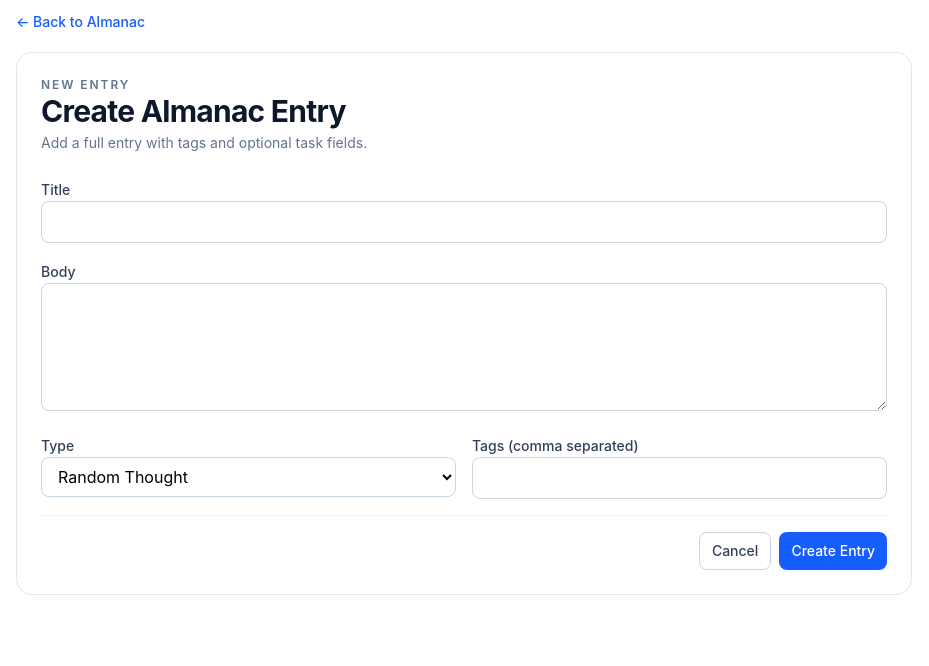
Test case: almanac coverage-critical files › almanac editor reports submission failures
The image size is (929, 666).
Type "Bad" into the field labelled "Title" at (464,222), box [41, 201, 887, 243]
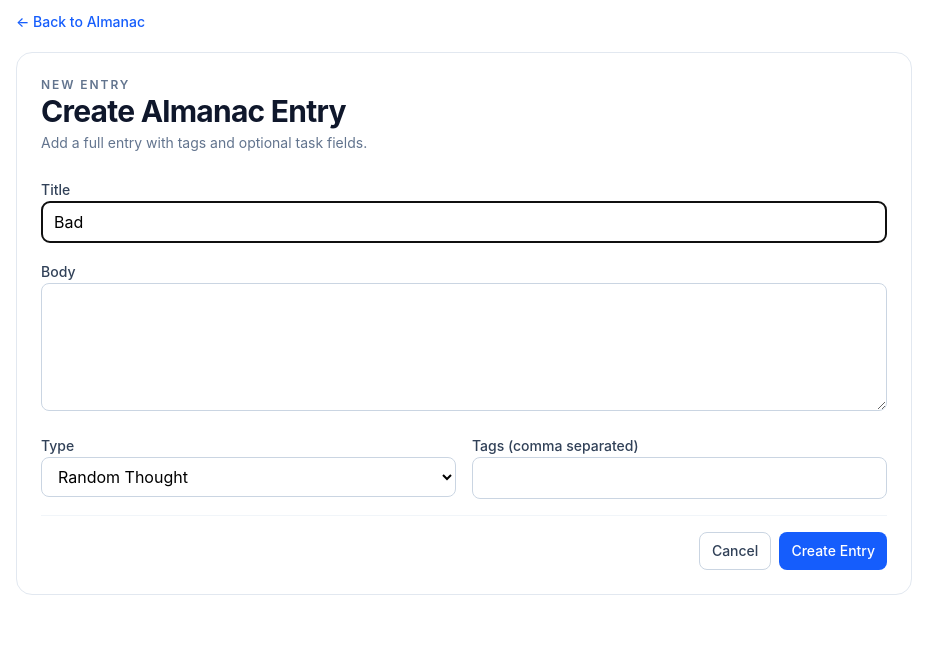
Click the button "Create Entry" at (833,551), box [779, 532, 887, 570]
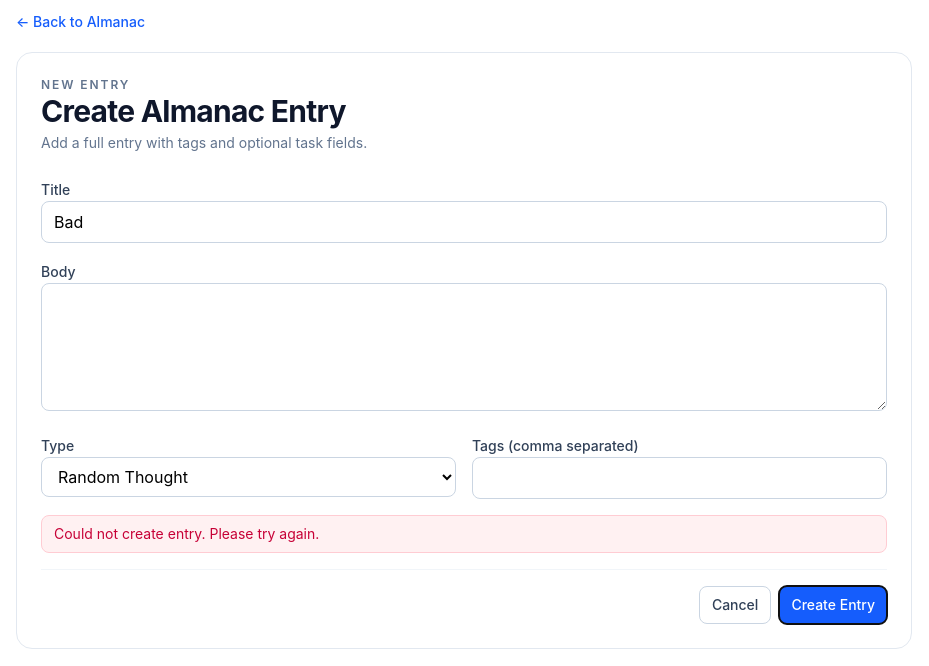
Now the text "Could not create entry. Please try again." is shown, box [41, 515, 887, 553]
